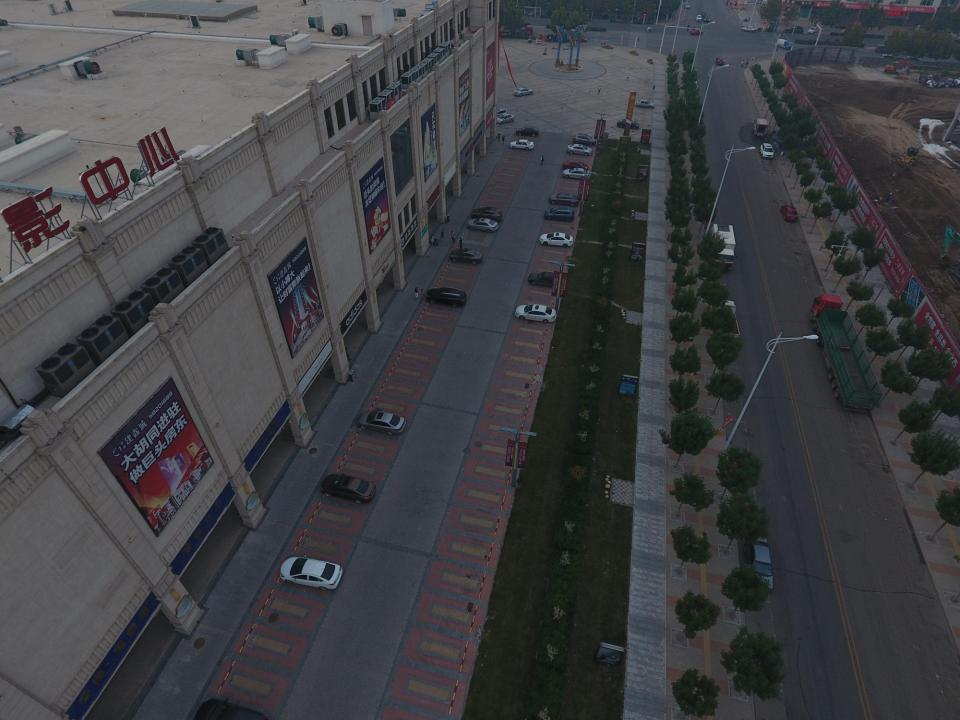car: (278, 556, 342, 590), (320, 472, 376, 505), (745, 531, 773, 591), (195, 699, 269, 720), (356, 409, 406, 435), (425, 286, 466, 309), (516, 303, 556, 324), (526, 270, 561, 287), (538, 231, 575, 246), (448, 247, 481, 262), (468, 216, 498, 230), (560, 166, 588, 180), (544, 206, 572, 219), (471, 207, 501, 219), (548, 191, 578, 203), (494, 112, 516, 126), (779, 204, 797, 220), (566, 143, 592, 154), (510, 139, 535, 150), (564, 158, 586, 170), (571, 132, 593, 144), (517, 126, 538, 138), (755, 115, 766, 136), (617, 119, 640, 129), (634, 98, 653, 109), (513, 85, 532, 95), (761, 142, 773, 157)
truck: (809, 292, 883, 412), (709, 222, 736, 271), (711, 297, 739, 341)
